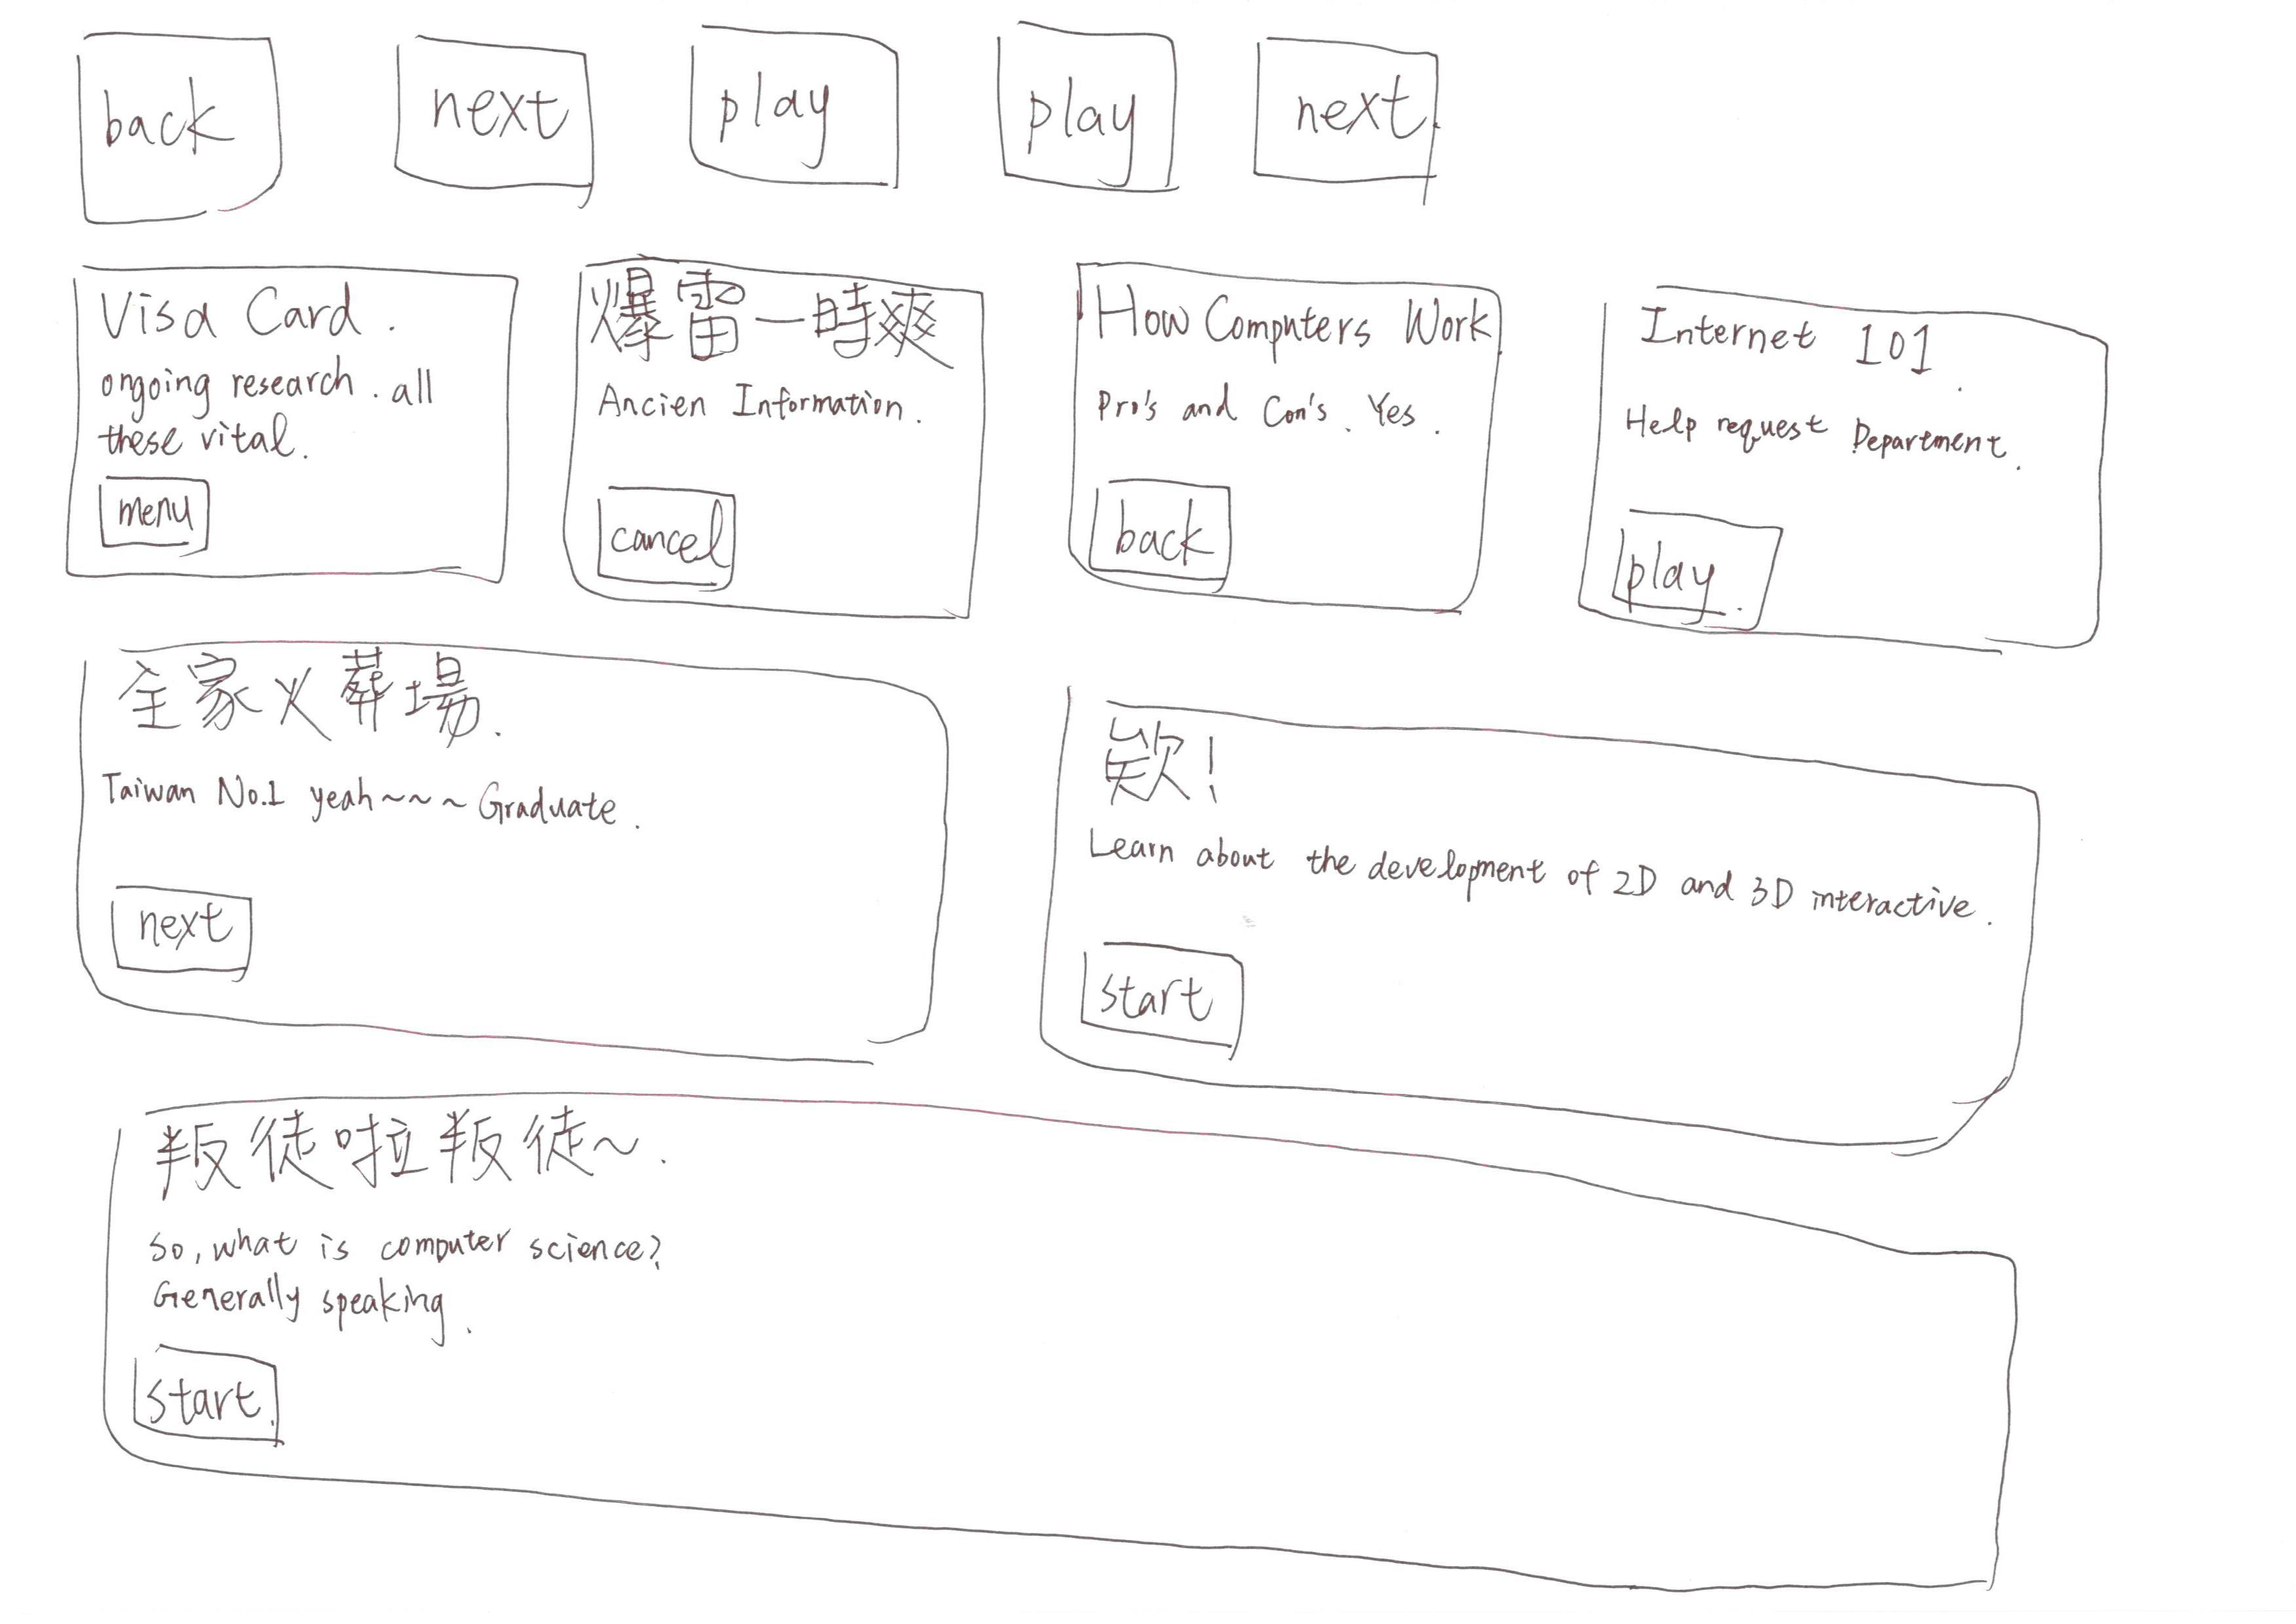back: (54, 16, 320, 251), (69, 859, 301, 1012), (1076, 457, 1264, 633)
cancel: (584, 468, 800, 610)
double: (1016, 652, 2140, 1167), (26, 613, 1011, 1088)
menu: (91, 459, 248, 589)
next: (376, 16, 642, 237), (1234, 21, 1484, 236)
play: (955, 9, 1215, 223), (675, 5, 932, 209), (1596, 483, 1827, 654)
quadruple: (1554, 265, 2145, 685), (1055, 237, 1549, 657), (538, 234, 1032, 652), (46, 241, 531, 619)
row: (23, 608, 2296, 1185), (23, 1048, 2296, 1624), (23, 250, 2296, 698), (23, 7, 2296, 251)
single: (46, 1069, 2201, 1624)
small-title: (148, 1102, 694, 1207), (608, 269, 988, 376), (95, 649, 520, 742), (1633, 295, 1957, 381), (88, 279, 397, 359), (1094, 288, 1493, 344), (1094, 719, 1255, 807)
start: (107, 1320, 343, 1478)
text: (1074, 819, 2002, 939), (139, 1204, 728, 1334), (105, 749, 645, 858), (1612, 395, 2052, 492), (1086, 362, 1450, 459), (107, 366, 441, 459), (608, 369, 944, 452)
